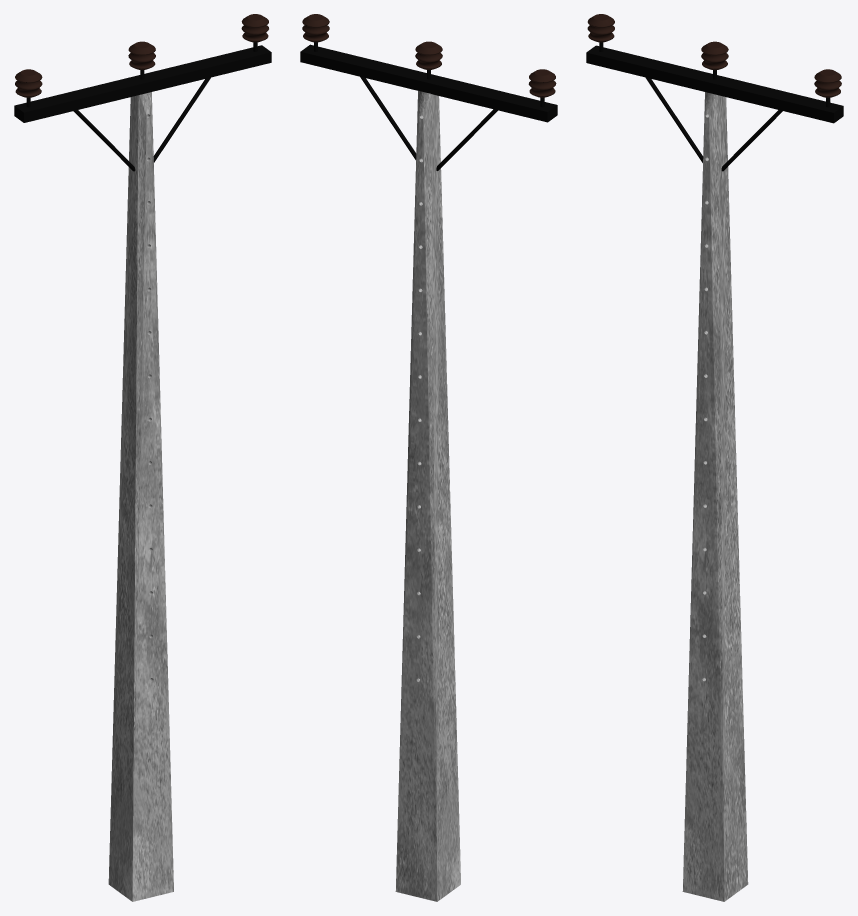
Rendered from lightpole2.fbx.
3 views of the same model, side by side, from view 1: azimuth 30°, elevation 25°; view 2: azimuth 150°, elevation 25°; view 3: azimuth 330°, elevation 25° (orthographic).
Parts seen in each view (by area): view 1: pCube15, pCube16, pCylinder19, pCylinder17, pCylinder18; view 2: pCube15, pCube16, pCylinder17, pCylinder18, pCylinder19; view 3: pCube15, pCube16, pCylinder17, pCylinder19, pCylinder18.
Boxes of the visible parts, x1,y1,x2,y2 form: pCube15: [108, 92, 173, 901]; pCube16: [14, 45, 271, 122]; pCylinder19: [241, 14, 268, 42]; pCylinder17: [15, 69, 42, 97]; pCylinder18: [128, 41, 155, 69]; pCube15: [395, 90, 460, 901]; pCube16: [300, 44, 557, 122]; pCylinder17: [528, 69, 556, 97]; pCylinder18: [415, 41, 442, 69]; pCylinder19: [302, 14, 329, 42]; pCube15: [682, 92, 748, 901]; pCube16: [586, 45, 843, 123]; pCylinder17: [587, 14, 614, 42]; pCylinder19: [814, 69, 841, 97]; pCylinder18: [701, 41, 728, 70].
Bounding box in the file's own units: 12.13 × 39 × 2.
Materials: 3 (1 with a texture image).
